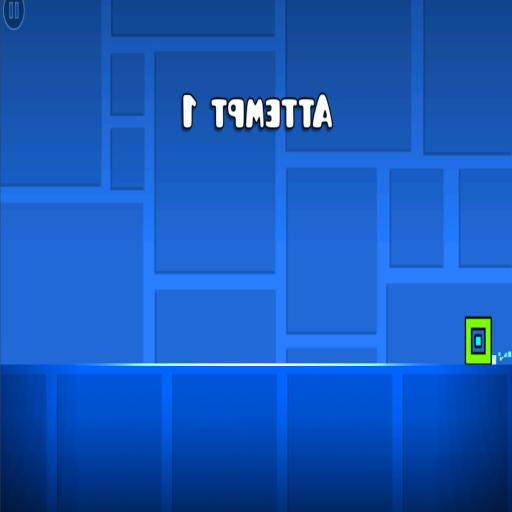player: (465, 317, 492, 363)
